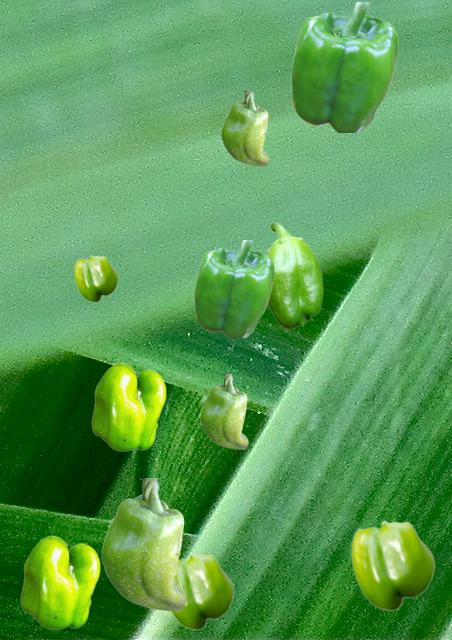bell_pepper: (291, 2, 397, 131), (101, 478, 185, 610), (194, 240, 273, 336), (351, 520, 434, 610), (20, 535, 99, 628), (91, 362, 165, 450), (266, 222, 322, 328), (170, 553, 233, 629), (221, 91, 268, 165), (200, 374, 247, 448), (74, 255, 117, 301)
